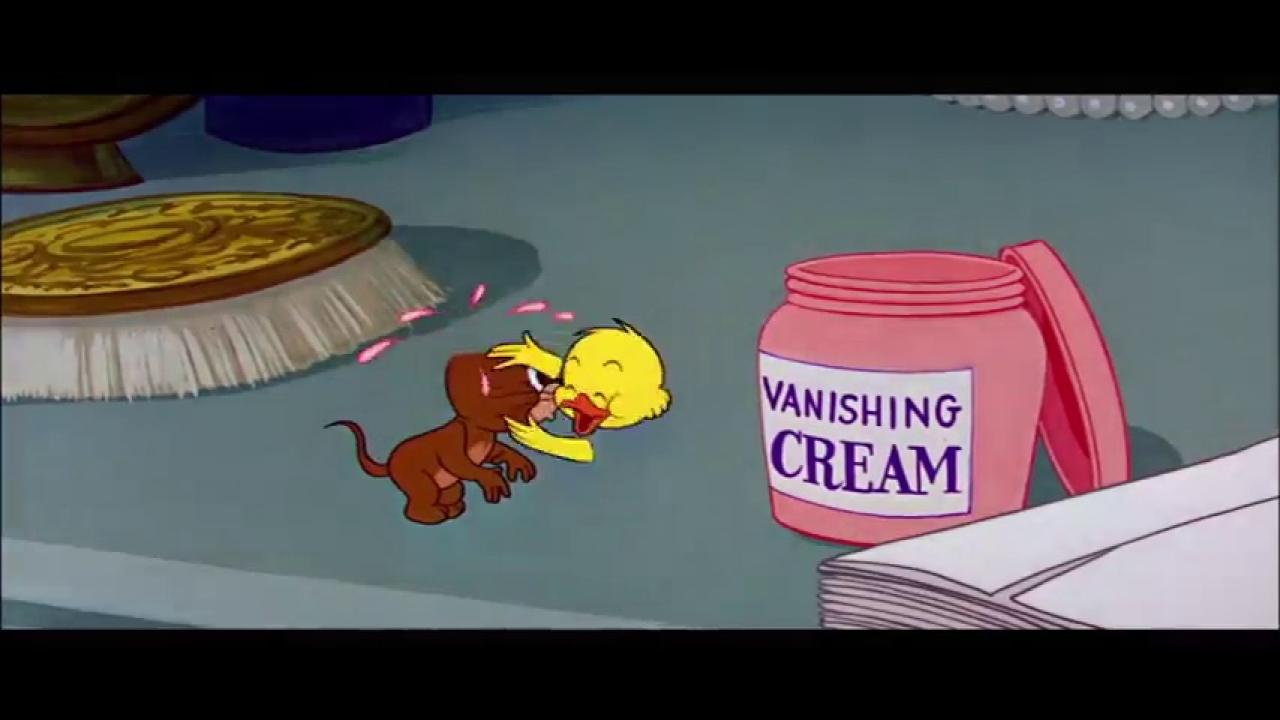Jerry: (320, 352, 562, 527)
